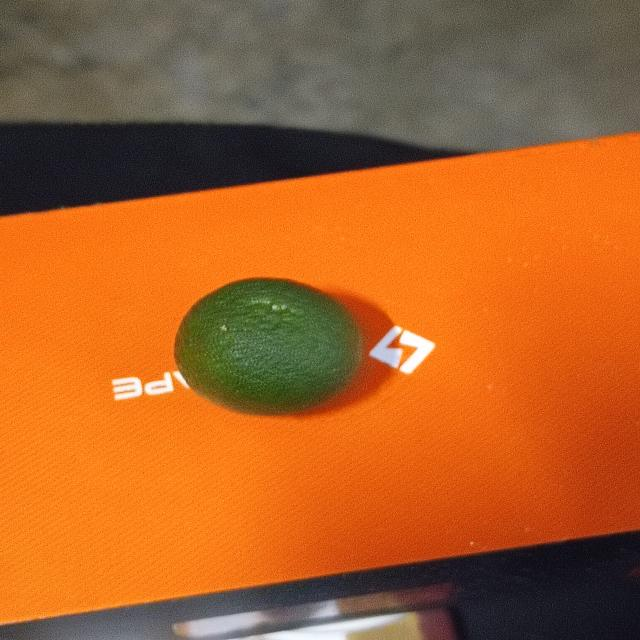heathy: (171, 276, 369, 418)
